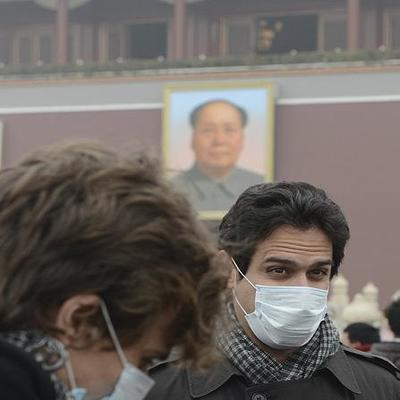Face_Mask_Found: (231, 272, 334, 353), (55, 335, 167, 400)
